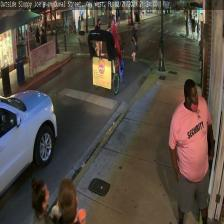person: (168, 78, 214, 224)
